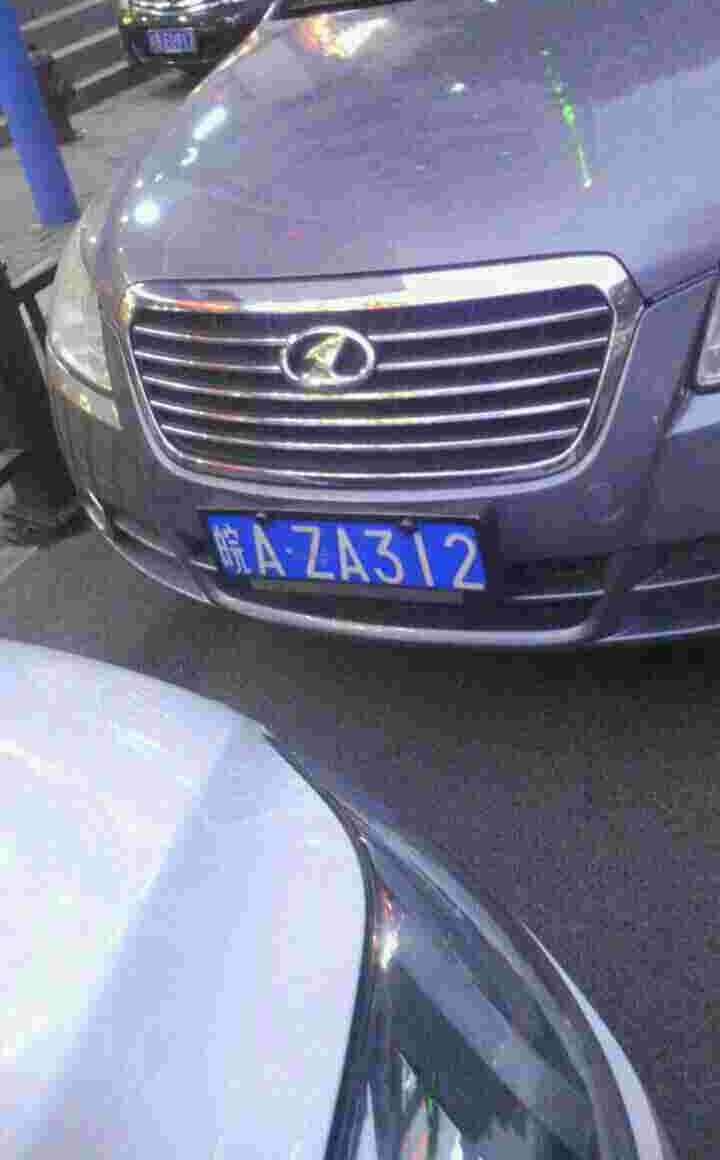plate: (193, 509, 505, 601)
